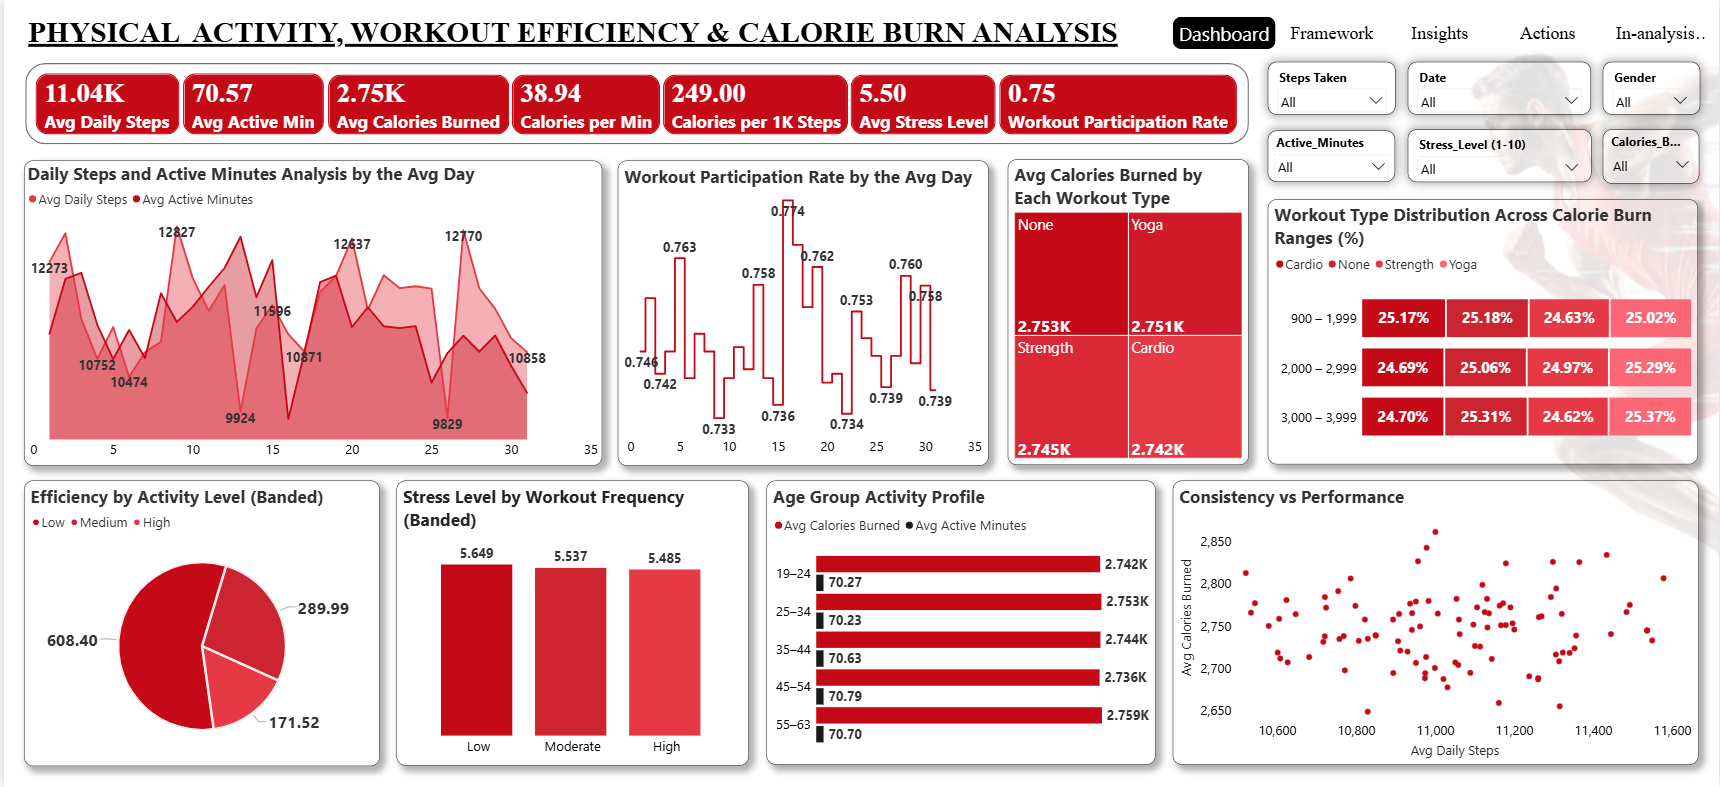

What the dashboard file says about the page in this screenshot:
{"tool":"powerbi","page":{"name":"Dashboard","canvas":[2800,1290],"ordinal":0},"visuals":[{"type":"clusteredColumnChart","title":"Stress Level by Workout Frequency (Banded)","fields":{"Category":["Table1.Workout Frequency Band"],"Y":["Table1.Average Stress Level"]},"box":[641,788.5,574.9,465.5],"z":0},{"type":"shape","box":[34.7,106.1,1998,132.7],"z":1000},{"type":"image","box":[2290.9,0,509.1,1290.9],"z":2000},{"type":"textbox","box":[33.7,24.7,1825.8,78.6],"z":3000},{"type":"lineChart","title":"Daily Steps and Active Minutes Analysis by the Avg Day","fields":{"Category":["Table1.Date.Variation.Date Hierarchy.Day"],"Y":["Table1.Avg Daily Steps"],"Y2":["Table1.Avg Active Minutes"]},"box":[33.1,264.5,943.7,498.5],"z":4000},{"type":"lineChart","title":"Workout Participation Rate by the Avg Day","fields":{"Category":["Table1.Date.Variation.Date Hierarchy.Day"],"Y":["Table1.Workout Participation Rate"]},"box":[1002.2,264.5,605.4,498.5],"z":5000},{"type":"scatterChart","title":"Consistency vs Performance","fields":{"Category":["Table1.User_ID"],"X":["Table1.Avg Daily Steps"],"Y":["Table1.Avg Calories Burned"]},"box":[1907.8,788.1,858.4,464.4],"z":6000},{"type":"cardVisual","fields":{"Data":["Table1.Calories per Minute"]},"box":[813,107.8,276.2,132.5],"z":7000},{"type":"cardVisual","fields":{"Data":["Table1.Average Stress Level"]},"box":[1365.3,108.2,271.4,132.7],"z":8000},{"type":"cardVisual","fields":{"Data":["Table1.Avg Daily Steps"]},"box":[34.7,106.1,269.4,134.7],"z":9000},{"type":"cardVisual","fields":{"Data":["Table1.Avg Active Minutes"]},"box":[276.2,105.6,265,134.7],"z":10000},{"type":"cardVisual","fields":{"Data":["Table1.Avg Calories Burned"]},"box":[512,107.8,330.1,132.5],"z":11000},{"type":"cardVisual","fields":{"Data":["Table1.Calories per 1K Steps"]},"box":[1060,107.8,336.9,132.5],"z":12000},{"type":"cardVisual","fields":{"Data":["Table1.Workout Participation Rate"]},"box":[1608.2,108.2,422.4,132.7],"z":13000},{"type":"treemap","title":"Avg Calories Burned by Each Workout Type","fields":{"Group":["Table1.Workout_Type"],"Values":["Table1.Avg Calories Burned"]},"box":[1637.8,263.8,393.5,499],"z":14000},{"type":"hundredPercentStackedBarChart","title":"Workout Type Distribution Across Calorie Burn Ranges (%)","fields":{"Category":["Table1.Calories Burned Bin___"],"Series":["Table1.Workout_Type"],"Y":["Table1.Workout % within Calorie Bin"]},"box":[2062.9,328.1,702,432.4],"z":15000},{"type":"pieChart","title":"Efficiency by Activity Level (Banded)","fields":{"Category":["Table1.Activity Level"],"Y":["Table1.Calories per 1K Steps"]},"box":[32.2,788.1,581,466.4],"z":16000},{"type":"clusteredBarChart","title":"Age Group Activity Profile","fields":{"Category":["Table1.Age Group"],"Y":["Table1.Avg Calories Burned","Table1.Avg Active Minutes"]},"box":[1244.4,788.1,635.3,464.4],"z":17000},{"type":"slicer","fields":{"Values":["Table1.Steps_Taken"]},"box":[2062.6,104.5,209.1,86.4],"z":18000},{"type":"slicer","title":"Date","fields":{"Values":["Table1.Date"]},"box":[2291.8,104.5,299.5,86.4],"z":19000},{"type":"slicer","fields":{"Values":["Table1.Stress_Level (1-10)"]},"box":[2291.8,214.7,300.1,86.5],"z":20000},{"type":"slicer","fields":{"Values":["Table1.Gender"]},"box":[2609.4,104.5,158.8,86.4],"z":21000},{"type":"slicer","fields":{"Values":["Table1.Active_Minutes"]},"box":[2063.3,216.3,208.2,83.7],"z":22000},{"type":"slicer","fields":{"Values":["Table1.Calories_Burned"]},"box":[2609.7,213.7,157.7,89],"z":23000},{"type":"pageNavigator","box":[1908.2,30.6,875.5,53.1],"z":24000}]}

Visuals, with their boxes in screenshot pixels (x1, y1, x2, y2), scaled from the page's 2800x1290 canvas onto the 1720x787 screenshot:
"Stress Level by Workout Frequency (Banded)" clusteredColumnChart: BBox(394, 481, 747, 765)
shape: BBox(21, 65, 1249, 146)
image: BBox(1407, 0, 1719, 786)
textbox: BBox(21, 15, 1142, 63)
"Daily Steps and Active Minutes Analysis by the Avg Day" lineChart: BBox(20, 161, 600, 465)
"Workout Participation Rate by the Avg Day" lineChart: BBox(616, 161, 988, 465)
"Consistency vs Performance" scatterChart: BBox(1172, 481, 1699, 764)
cardVisual - Table1.Calories per Minute: BBox(499, 66, 669, 147)
cardVisual - Table1.Average Stress Level: BBox(839, 66, 1005, 147)
cardVisual - Table1.Avg Daily Steps: BBox(21, 65, 187, 147)
cardVisual - Table1.Avg Active Minutes: BBox(170, 64, 332, 147)
cardVisual - Table1.Avg Calories Burned: BBox(315, 66, 517, 147)
cardVisual - Table1.Calories per 1K Steps: BBox(651, 66, 858, 147)
cardVisual - Table1.Workout Participation Rate: BBox(988, 66, 1247, 147)
"Avg Calories Burned by Each Workout Type" treemap: BBox(1006, 161, 1248, 465)
"Workout Type Distribution Across Calorie Burn Ranges (%)" hundredPercentStackedBarChart: BBox(1267, 200, 1698, 464)
"Efficiency by Activity Level (Banded)" pieChart: BBox(20, 481, 377, 765)
"Age Group Activity Profile" clusteredBarChart: BBox(764, 481, 1155, 764)
slicer - Table1.Steps_Taken: BBox(1267, 64, 1395, 116)
"Date" slicer: BBox(1408, 64, 1592, 116)
slicer - Table1.Stress_Level (1-10): BBox(1408, 131, 1592, 184)
slicer - Table1.Gender: BBox(1603, 64, 1700, 116)
slicer - Table1.Active_Minutes: BBox(1267, 132, 1395, 183)
slicer - Table1.Calories_Burned: BBox(1603, 130, 1700, 185)
pageNavigator: BBox(1172, 19, 1710, 51)
